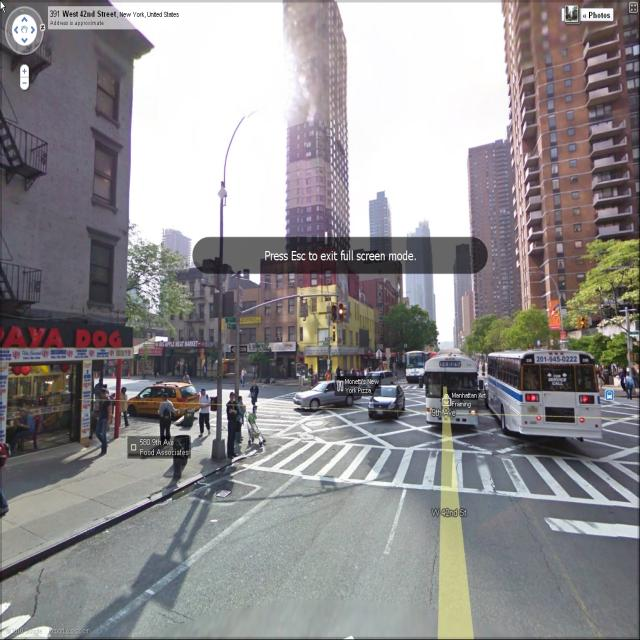b_1: (11, 1, 138, 310), (505, 2, 639, 263), (278, 3, 356, 246), (466, 134, 525, 336), (159, 258, 250, 378), (263, 250, 314, 366), (403, 215, 441, 333), (224, 281, 274, 360), (365, 169, 393, 273), (453, 244, 477, 335)
b_2: (472, 233, 638, 383)
